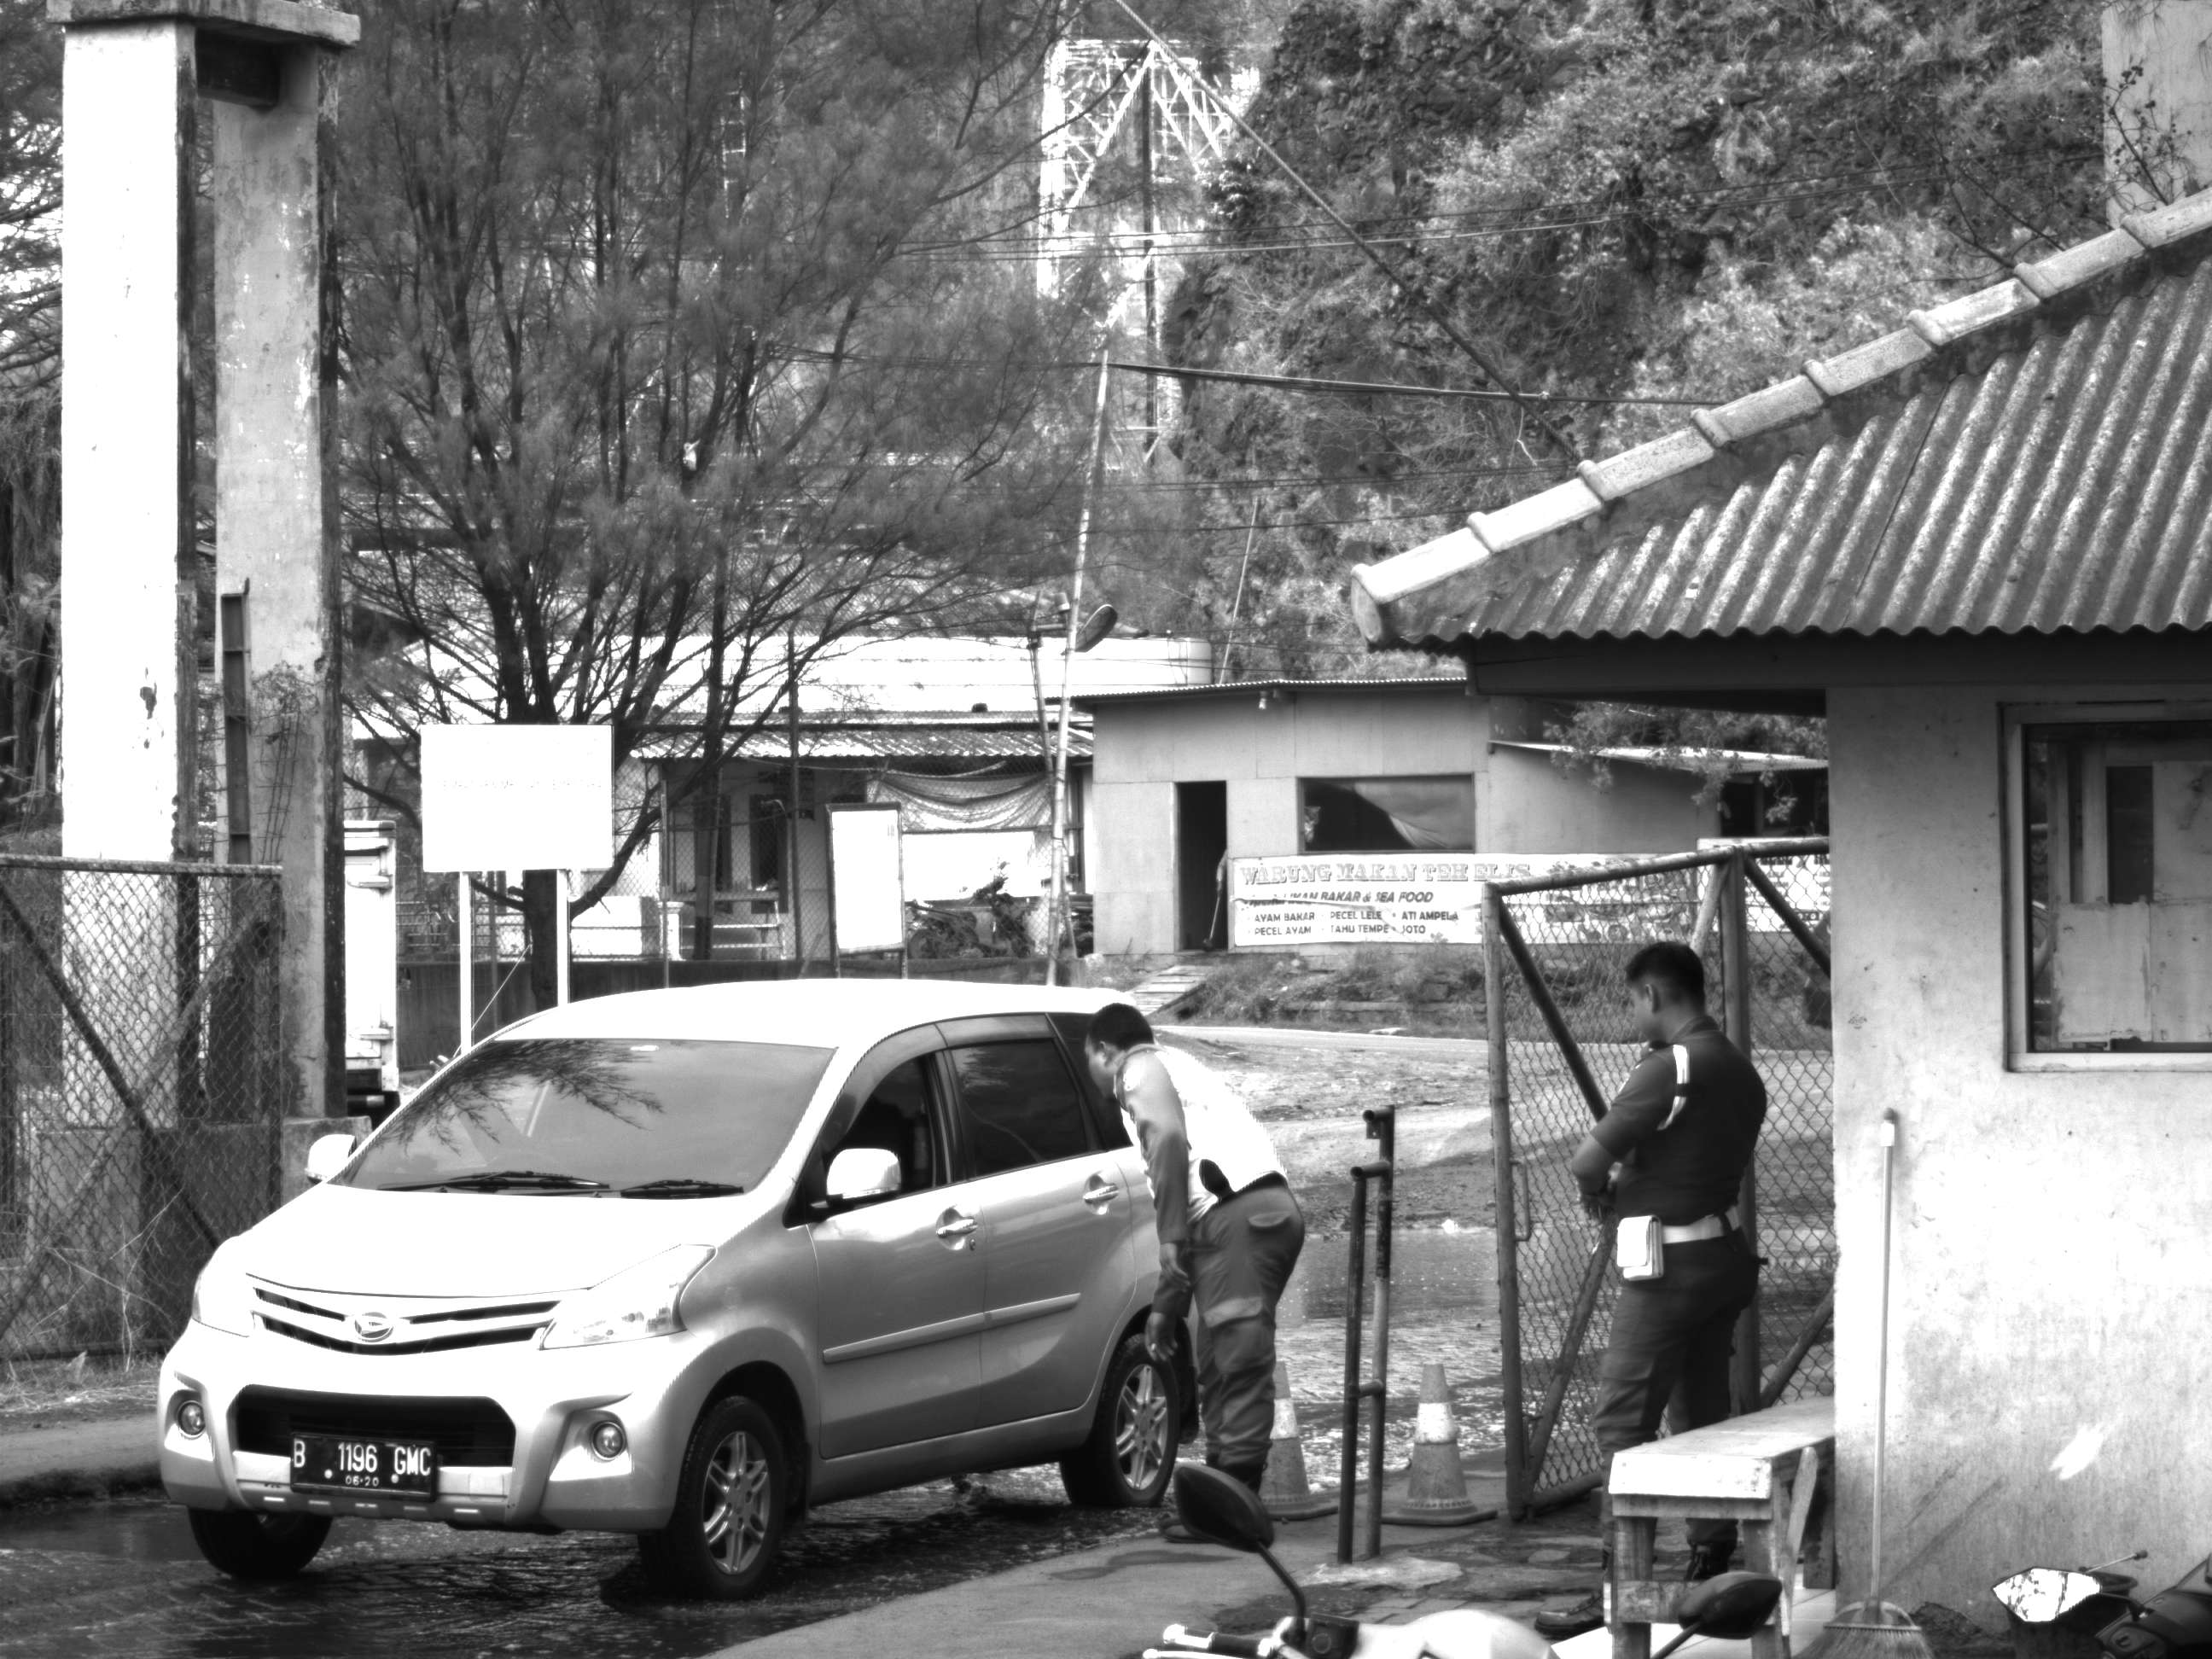day_small_front: (139, 1006, 796, 1595)
plate: (288, 1433, 448, 1499)
